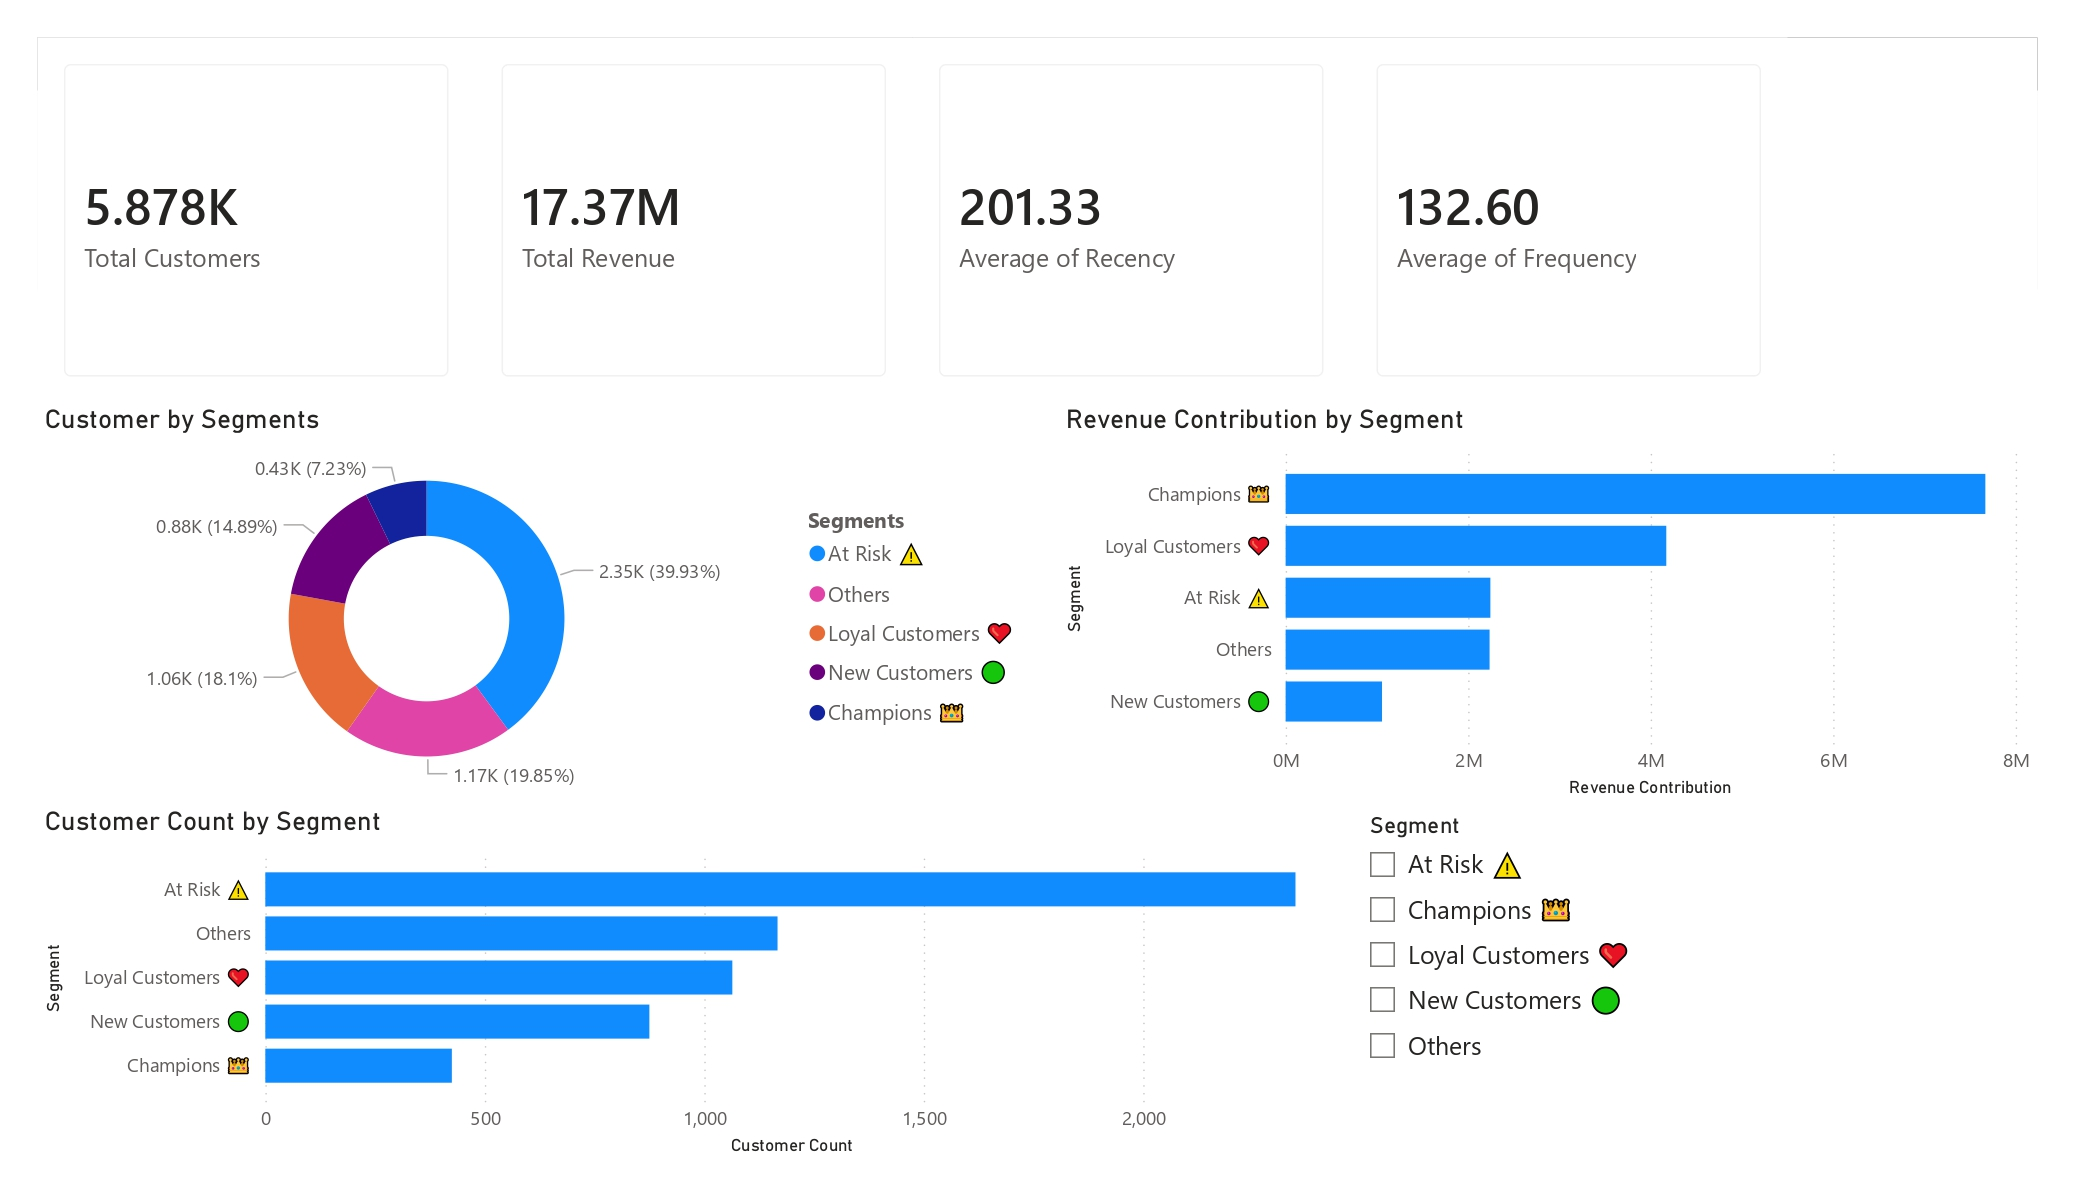

Layout of this report page (visuals, bound fields, positions):
{"tool":"powerbi","page":{"name":"Executive Customer Segmentation Dashboard","canvas":[1280,720],"ordinal":0},"visuals":[{"type":"cardVisual","fields":{"Data":["Count(rfm_segments.Customer ID)"]},"box":[0,0,279.9,234],"z":0},{"type":"cardVisual","fields":{"Data":["Avg(rfm_segments.Recency)"]},"box":[559.8,0,279.9,234],"z":1000},{"type":"cardVisual","fields":{"Data":["Avg(rfm_segments.Frequency)"]},"box":[839.7,0,279.9,234],"z":2000},{"type":"cardVisual","fields":{"Data":["Sum(rfm_segments.Monetary)"]},"box":[279.9,0,279.9,234],"z":3000},{"type":"donutChart","fields":{"Category":["rfm_segments.Segment"],"Y":["CountNonNull(rfm_segments.Customer ID)"]},"box":[0,234,639.4,257],"z":4000},{"type":"clusteredBarChart","fields":{"Category":["rfm_segments.Segment"],"Y":["Sum(rfm_segments.Monetary)"]},"box":[652.7,234,627.3,257],"z":5000},{"type":"barChart","fields":{"Category":["rfm_segments.Segment"],"Y":["CountNonNull(rfm_segments.Customer ID)"]},"box":[0,491,839.7,229.2],"z":6000},{"type":"slicer","fields":{"Values":["rfm_segments.Segment"]},"box":[840,491,440,229],"z":6001}]}

Visuals, with their boxes on the page's 1280x720 design canvas (x1, y1, x2, y2). These are canvas units, not pixel positions in the 2075x1200 screenshot, which may show the page scaled, cropped or inside an application window:
cardVisual - Count(rfm_segments.Customer ID): l=0, t=0, r=280, b=234
cardVisual - Avg(rfm_segments.Recency): l=560, t=0, r=840, b=234
cardVisual - Avg(rfm_segments.Frequency): l=840, t=0, r=1120, b=234
cardVisual - Sum(rfm_segments.Monetary): l=280, t=0, r=560, b=234
donutChart - rfm_segments.Segment x CountNonNull(rfm_segments.Customer ID): l=0, t=234, r=639, b=491
clusteredBarChart - rfm_segments.Segment x Sum(rfm_segments.Monetary): l=653, t=234, r=1280, b=491
barChart - rfm_segments.Segment x CountNonNull(rfm_segments.Customer ID): l=0, t=491, r=840, b=720
slicer - rfm_segments.Segment: l=840, t=491, r=1280, b=720
